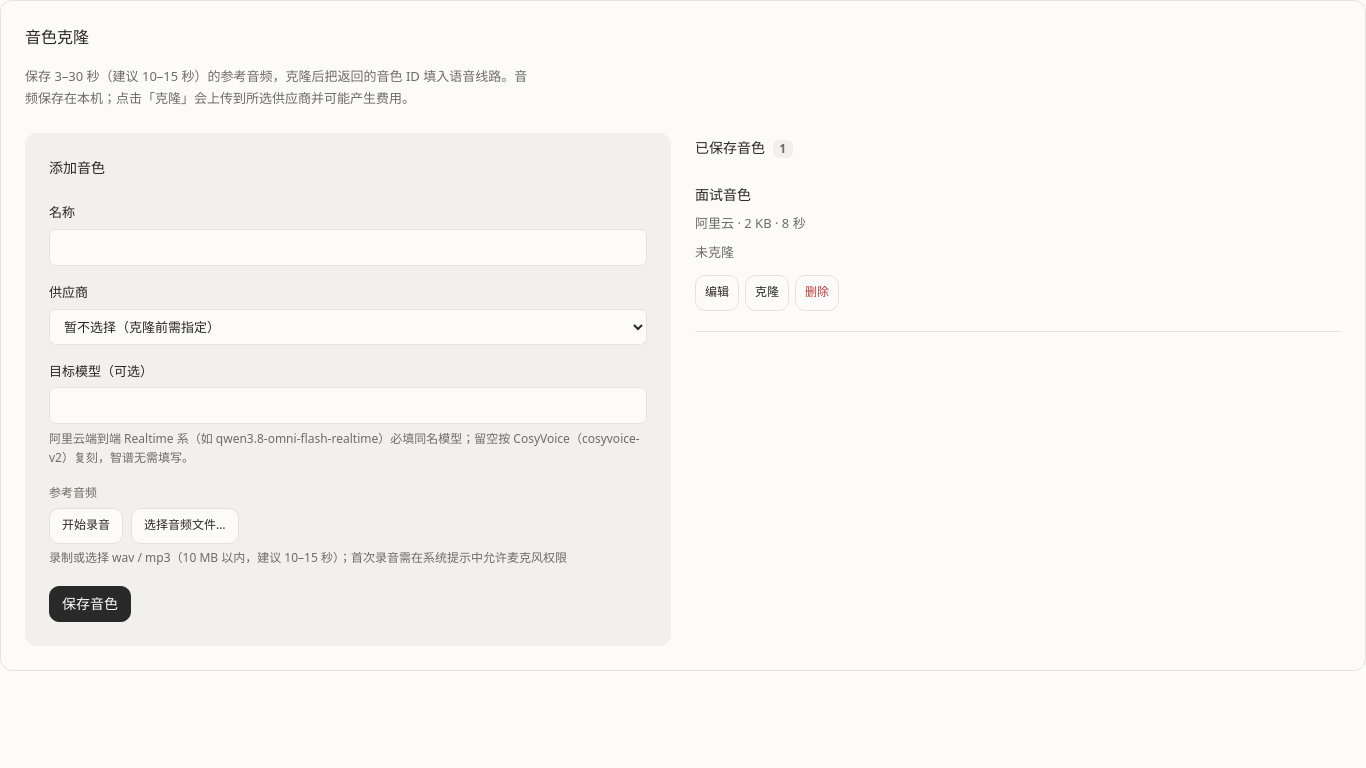
Scenario: VoiceReferenceEditor › surfaces save errors in the shared code：message format
The width and height of the screenshot is (1366, 768).
Click the button with aria-label "编辑 面试音色": (717, 293) [695, 275, 739, 311]
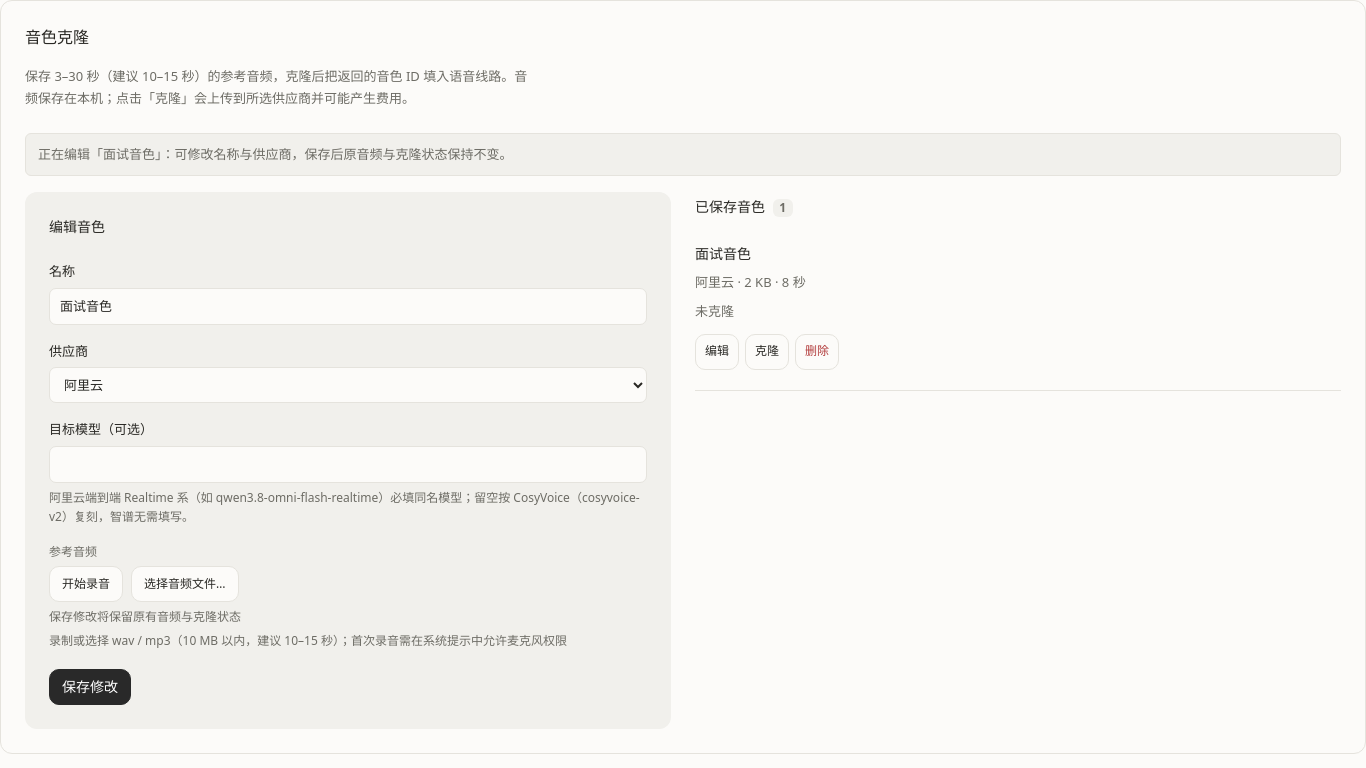
Click the button "保存修改": (90, 687) [49, 669, 131, 705]
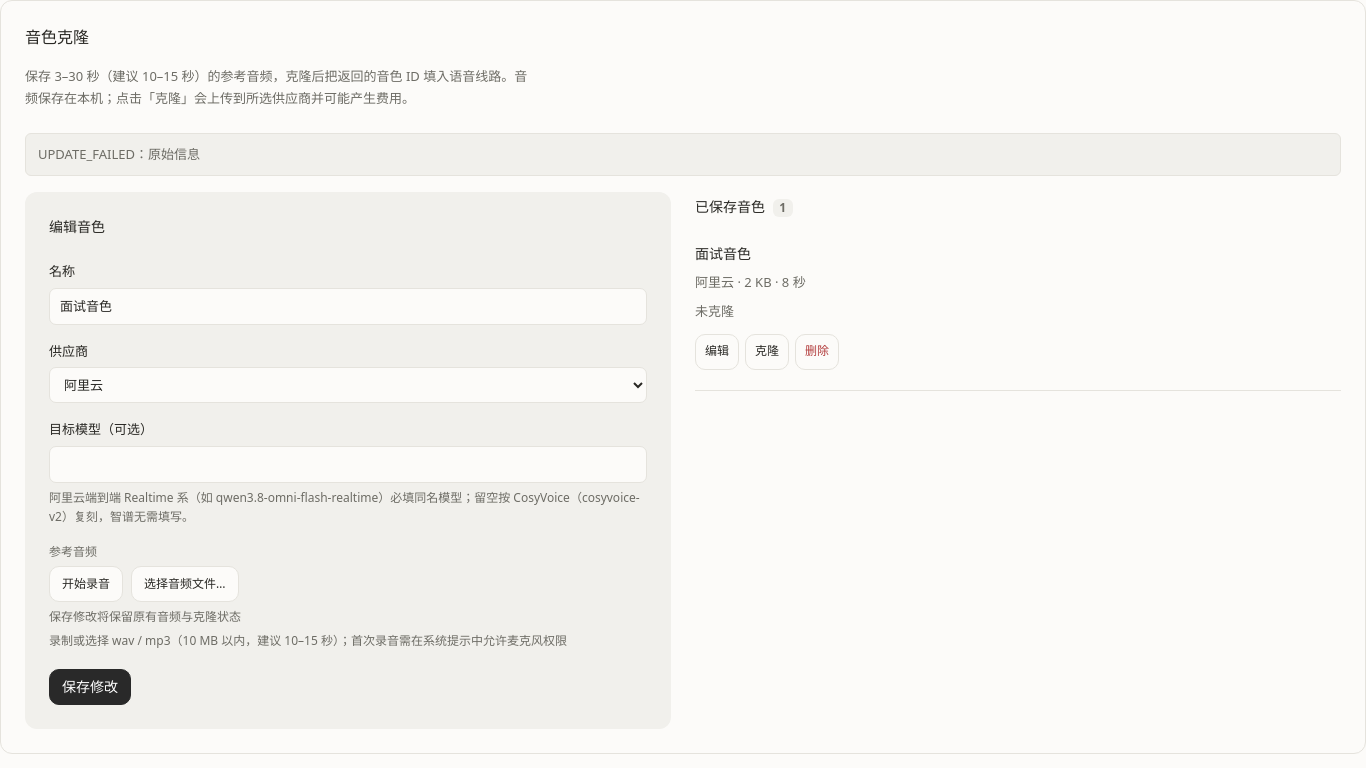
Now the message reads "UPDATE_FAILED：原始信息", box [38, 145, 200, 163]
